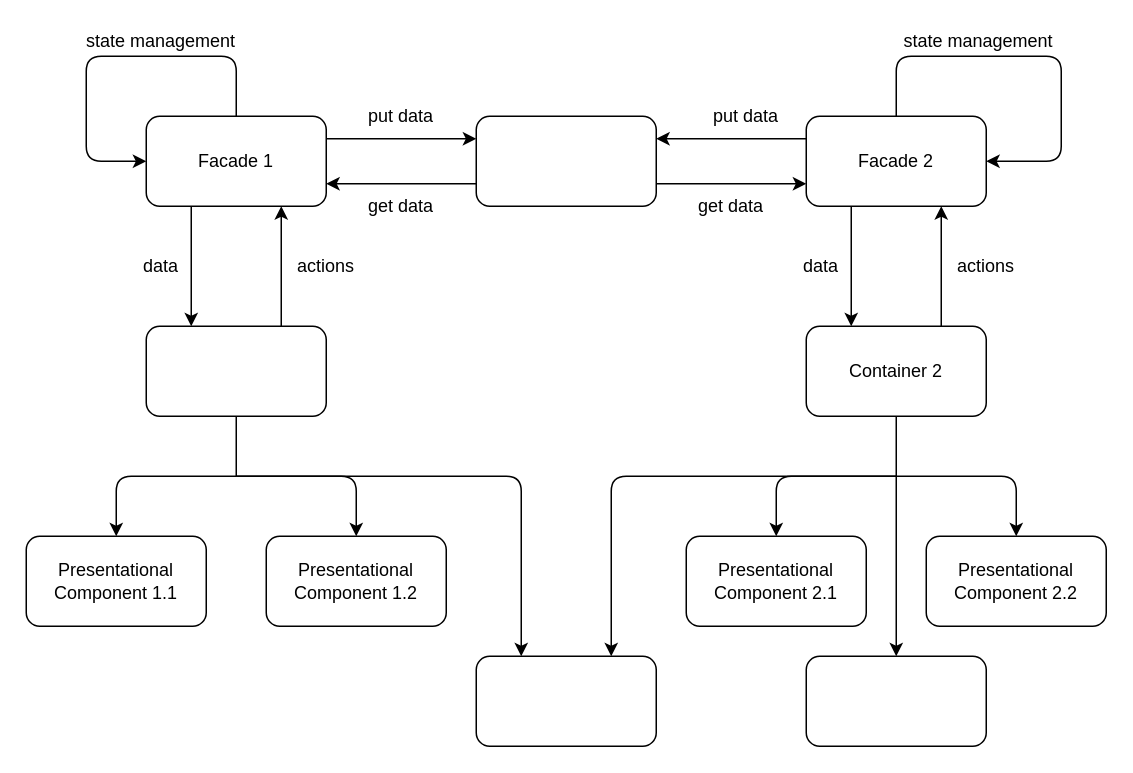
Some shapes in this 1133 by 773 pixel diagram are drawn without their labels. The shapes that lost their labels are listed below. From the top down, each one's box as (x1, y1, x2, y2) in pixels, then its label:
(475, 115, 656, 206): Session
(145, 325, 326, 416): Container 1
(475, 655, 656, 746): Shared Presentational Component
(805, 655, 986, 746): Presentational Component 2.3
